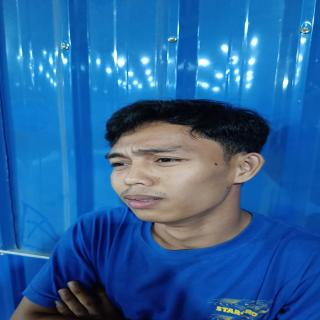Sedih: (102, 122, 234, 227)
